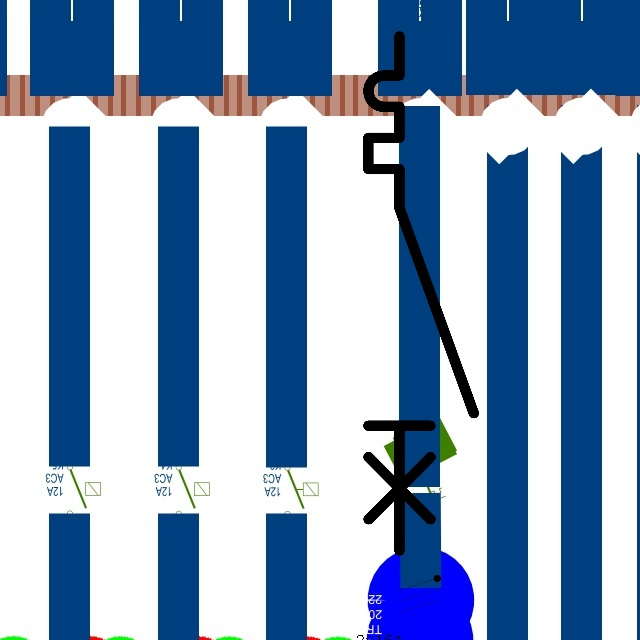interruptor_termomagnetico: (355, 23, 487, 564)
